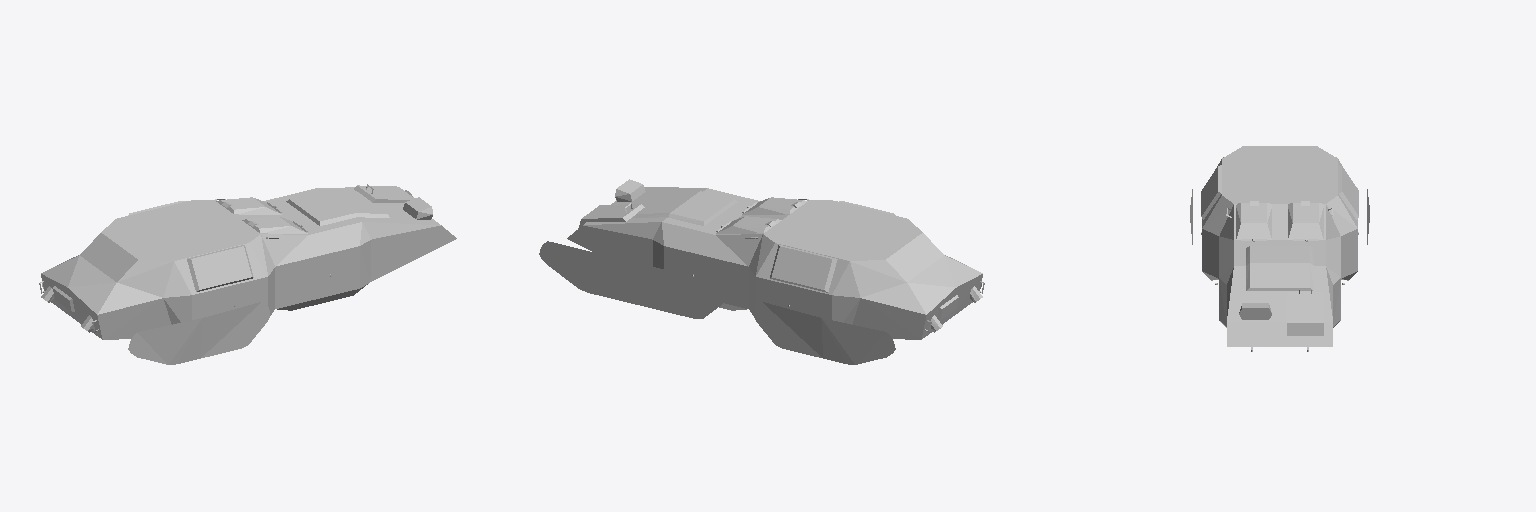
Rendered from scorpion_base.obj.
3 views of the same model, side by side, from view 1: azimuth 30°, elevation 25°; view 2: azimuth 150°, elevation 25°; view 3: azimuth 270°, elevation 25° (orthographic).
Visible parts, largest first — view 1: Scorpion; view 2: Scorpion; view 3: Scorpion.
Part boxes in pixels (x1,y1,x2,y2): Scorpion: (39, 184, 456, 364); Scorpion: (539, 179, 984, 364); Scorpion: (1190, 146, 1369, 351).
Bounding box in the file's own units: 28.74 × 6.64 × 11.6.